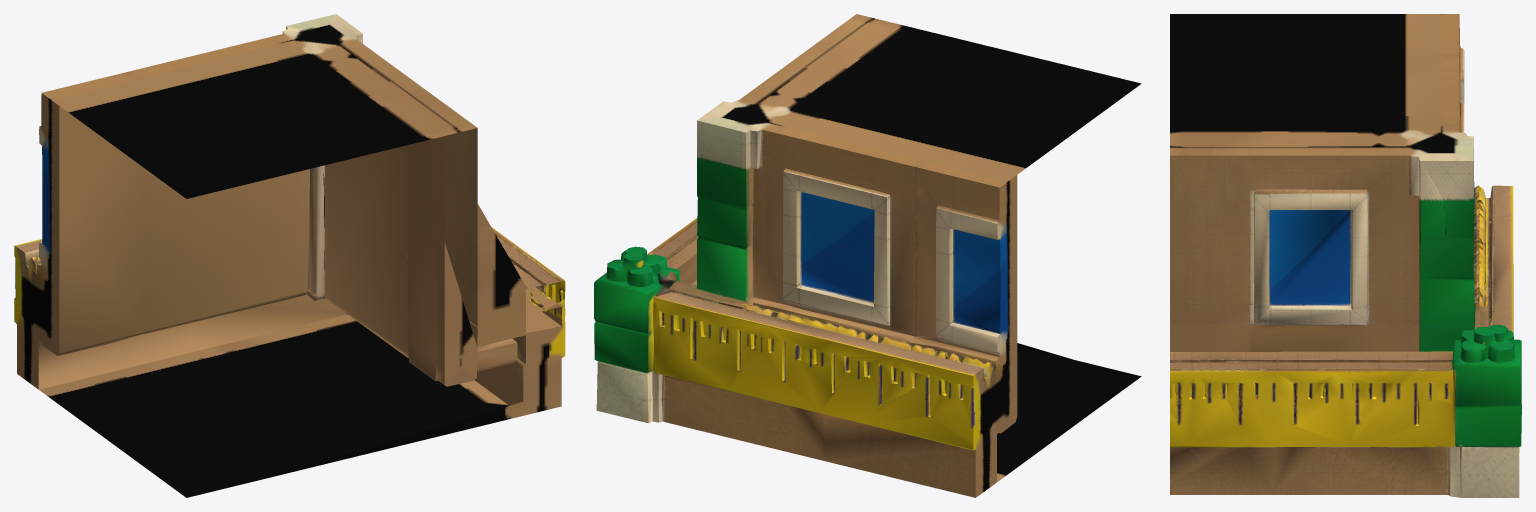
The model's file is 8-upper-walls-back-right.fbx.
3 views of the same model, side by side, from view 1: azimuth 30°, elevation 25°; view 2: azimuth 150°, elevation 25°; view 3: azimuth 270°, elevation 25° (orthographic). The views are drawn at different scales.
Parts seen in each view (by area): view 1: upper-walls-back-right; view 2: upper-walls-back-right; view 3: upper-walls-back-right.
Boxes of the visible parts, box(x1,y1,x2,y2) form: upper-walls-back-right: box(14, 14, 565, 497); upper-walls-back-right: box(594, 14, 1141, 497); upper-walls-back-right: box(1170, 14, 1521, 497).
Bounding box in the file's own units: 6469 × 4817 × 5151.
1 material, 1 textured.
